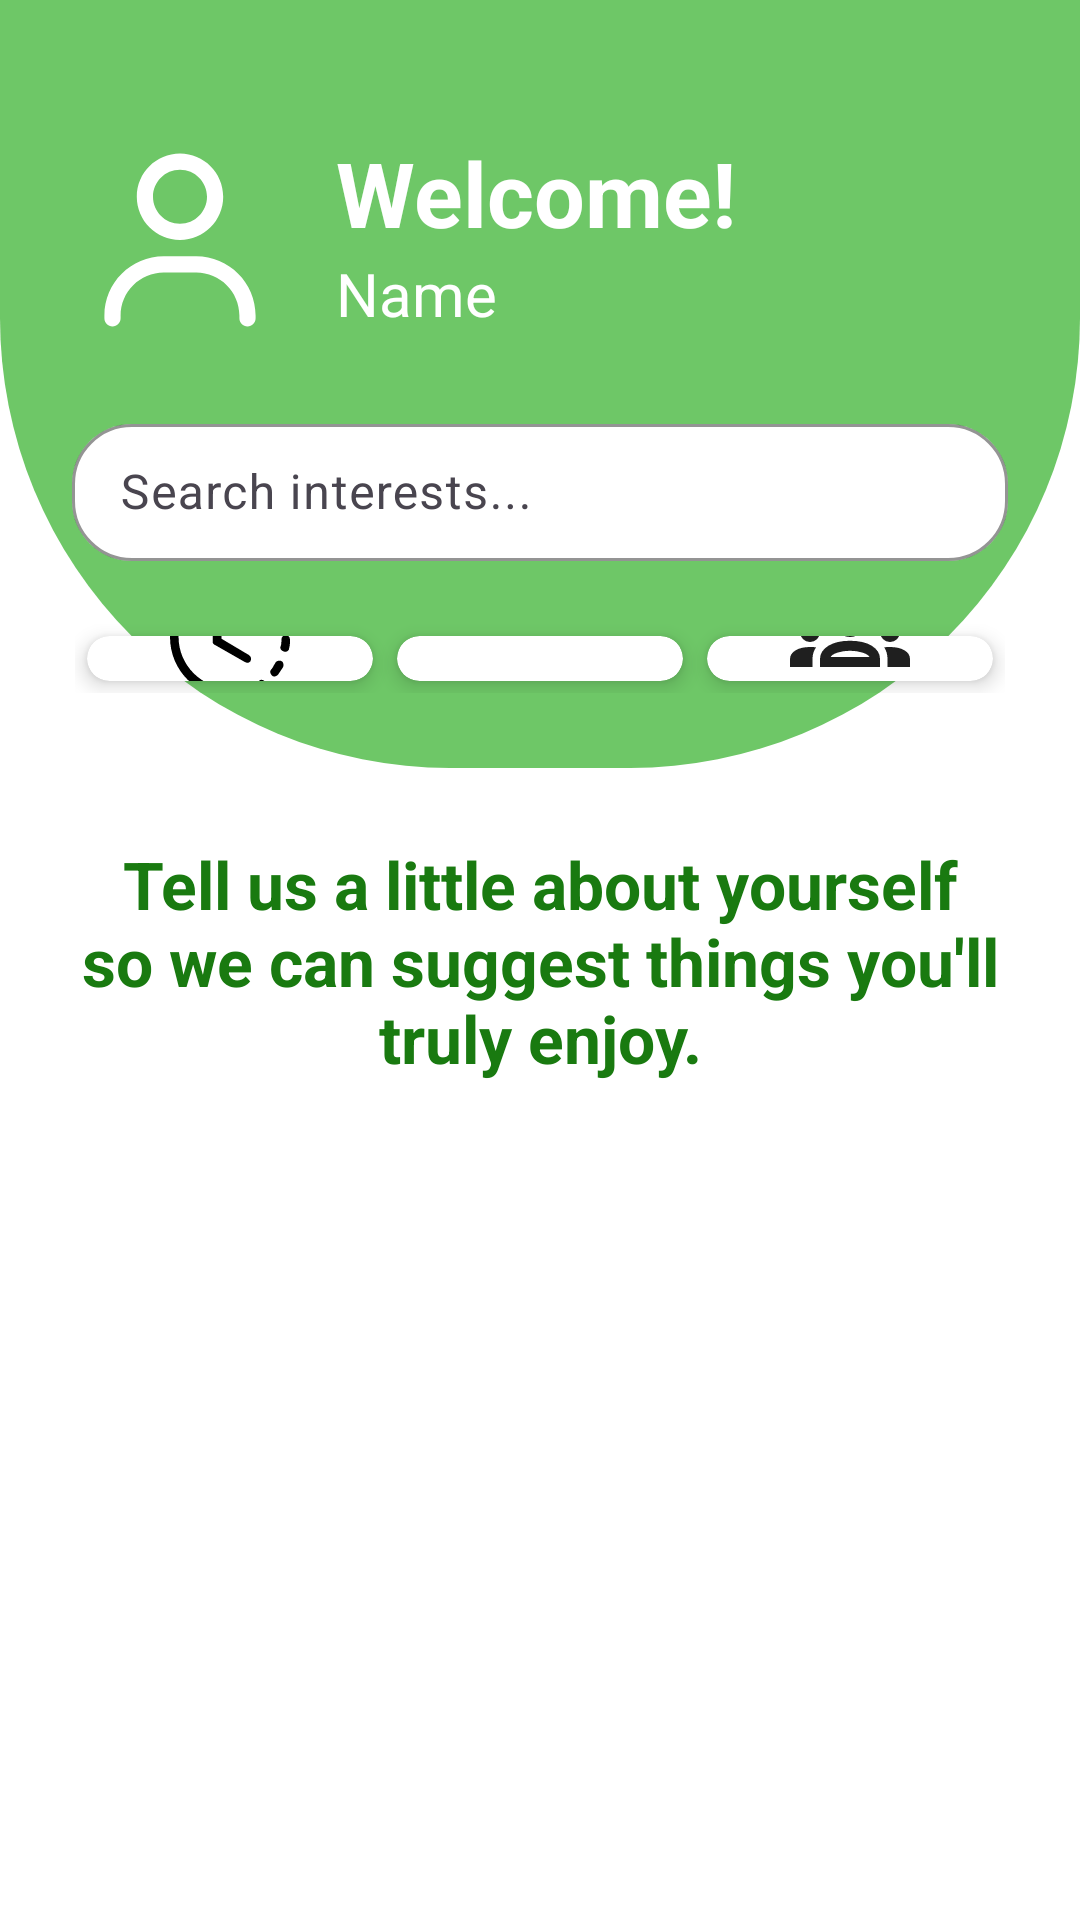

Where icons sit on this 1080px x 1920px app screen, as {"x1": x1, "y1": y1, "x2": x2, "y2": y2}:
user: {"x1": 104, "y1": 153, "x2": 256, "y2": 327}
